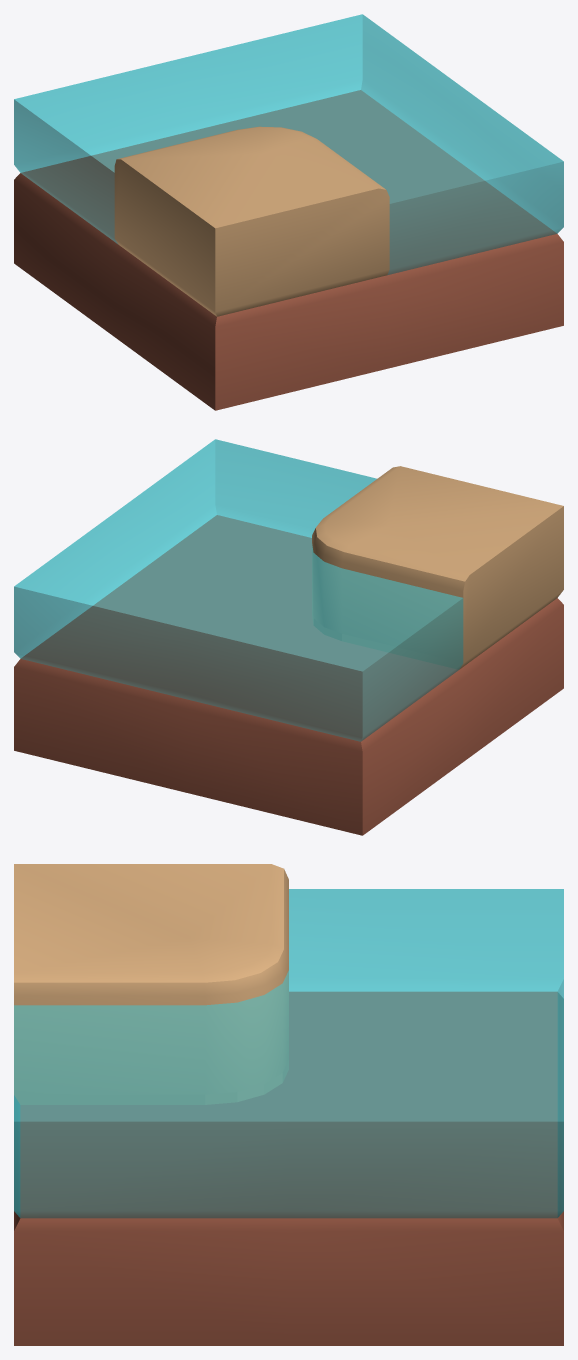
File: square_sand_waterOuterCorner.fbx
3 views of the same model, one above another, from view 1: azimuth 30°, elevation 25°; view 2: azimuth 150°, elevation 25°; view 3: azimuth 270°, elevation 25° (orthographic). The views are drawn at different scales.
Parts seen in each view (by area): view 1: square_sand_waterOuterCorner; view 2: square_sand_waterOuterCorner; view 3: square_sand_waterOuterCorner.
Boxes of the visible parts, <box> form: square_sand_waterOuterCorner: <box>14,14,563,410</box>; square_sand_waterOuterCorner: <box>14,439,563,835</box>; square_sand_waterOuterCorner: <box>14,864,563,1345</box>.
Size of the model in its own units: 2 by 1 by 2.
